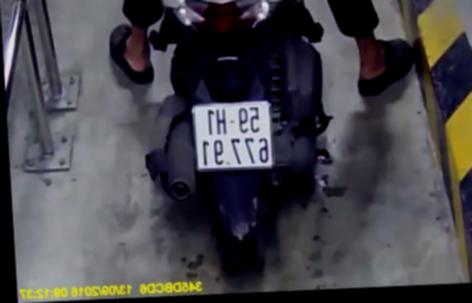License_Plate: (180, 95, 284, 179)
